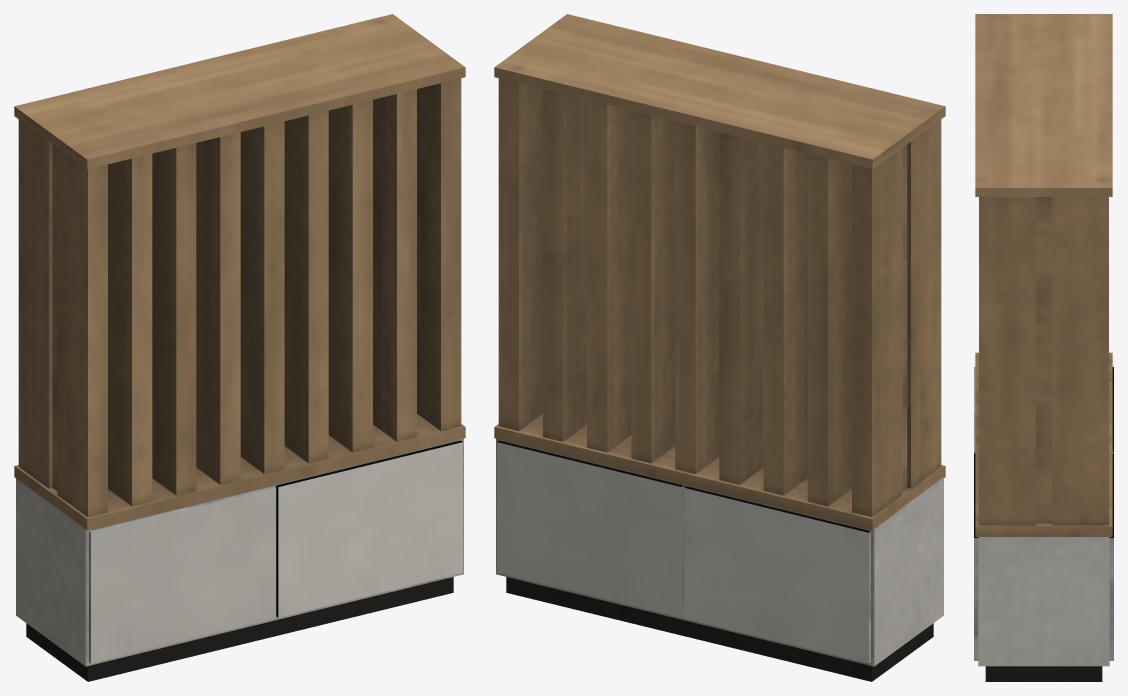
The model's file is H_SlatScreen.fbx.
3 views of the same model, side by side, from view 1: azimuth 30°, elevation 25°; view 2: azimuth 150°, elevation 25°; view 3: azimuth 270°, elevation 25° (orthographic). The views are drawn at different scales.
Visible parts, largest first — view 1: H_SlatScreen; view 2: H_SlatScreen; view 3: H_SlatScreen.
Part boxes in pixels (left/top/right/bottom): H_SlatScreen: left=14, top=14, right=465, bottom=681; H_SlatScreen: left=494, top=14, right=945, bottom=681; H_SlatScreen: left=974, top=14, right=1113, bottom=681.
Size of the model in its own units: 600 by 800 by 204.
1 material, 1 textured.
